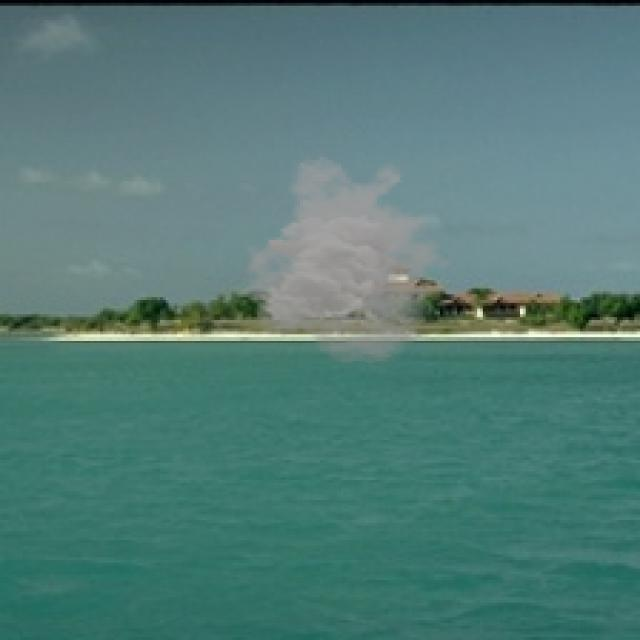Smoke: (234, 154, 463, 366)
